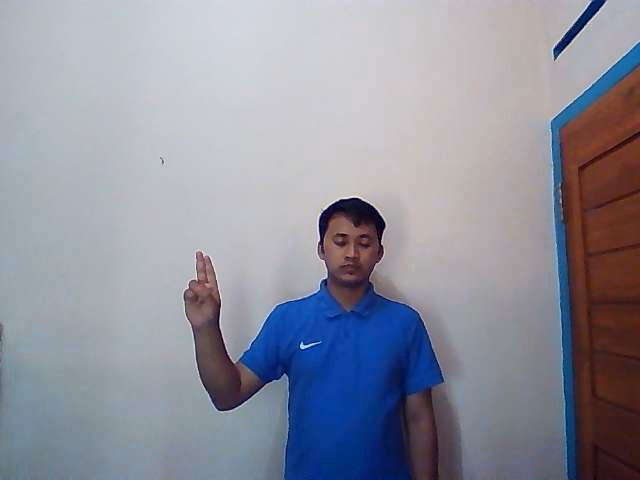U: (183, 250, 222, 325)
